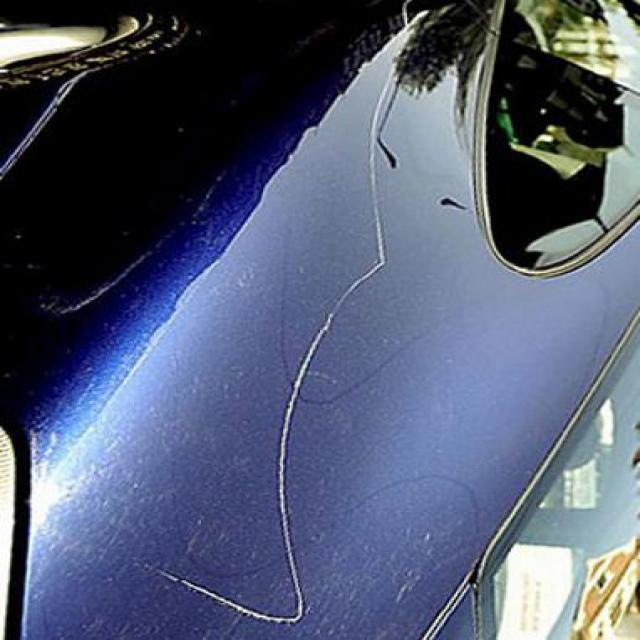scratch: (122, 175, 394, 640)
